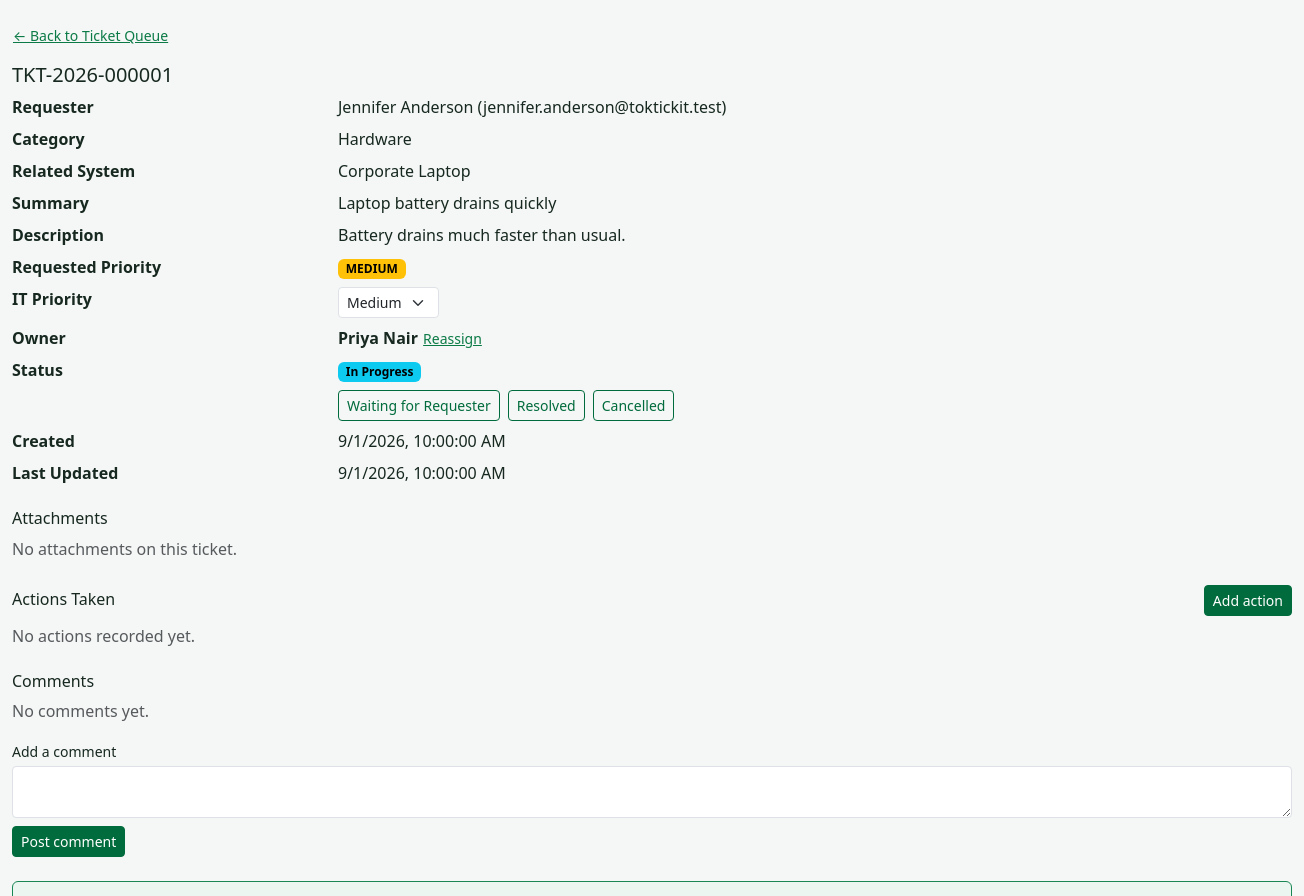
Test: TicketWorkflow: status buttons › UI-10: conflicts and refresh › a successful change refreshes the summary, version, buttons and gate from the server
Check: the heading "TKT-2026-000001" is shown, box [12, 61, 173, 88]
Click the button "Waiting for Requester" at (419, 406), box [338, 390, 500, 421]
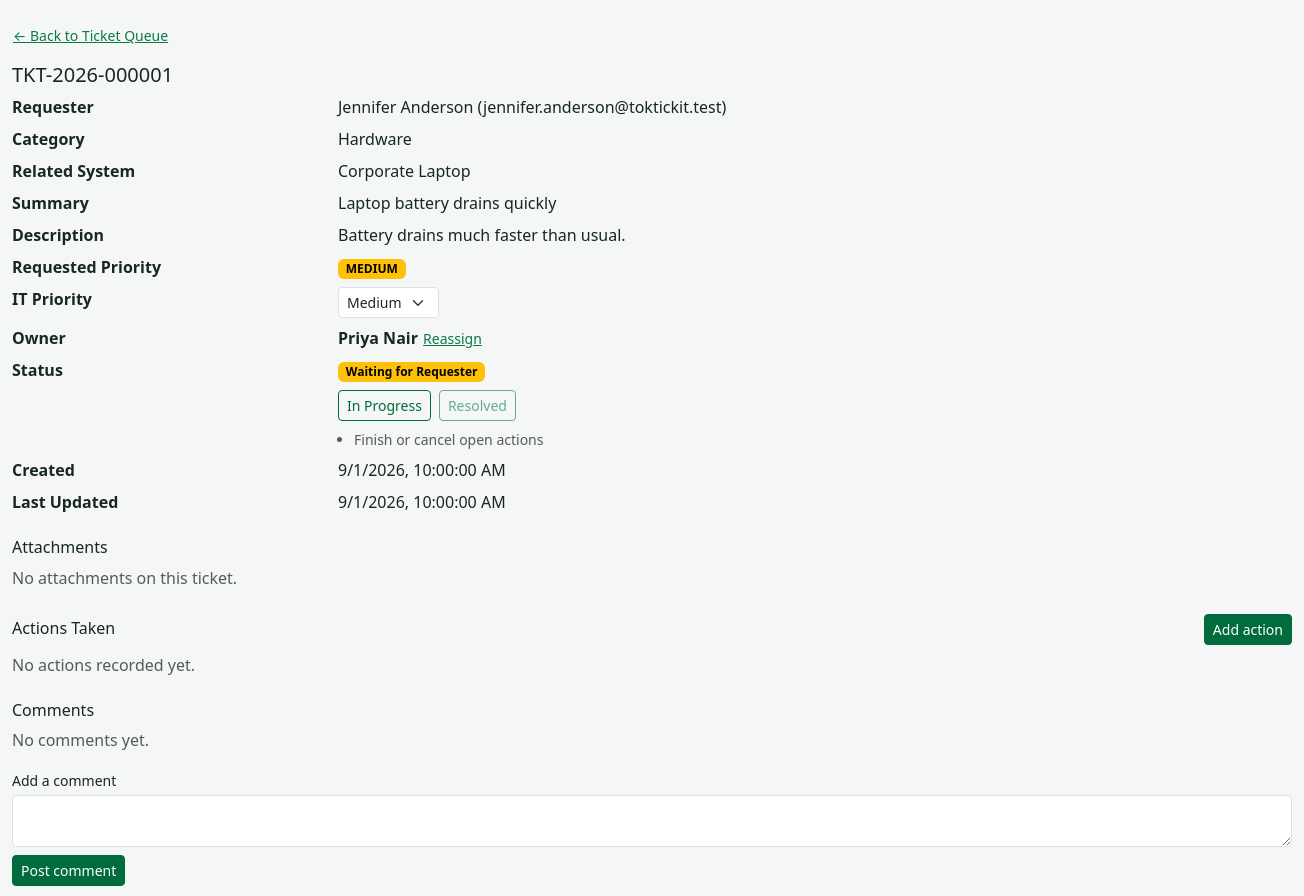
Check: the button "Resolved" is disabled, box [439, 390, 516, 421]
Check: the list item "Finish or cancel open actions" is shown, box [354, 430, 544, 449]
Check: the text "Waiting for Requester" is shown, box [338, 362, 485, 382]
